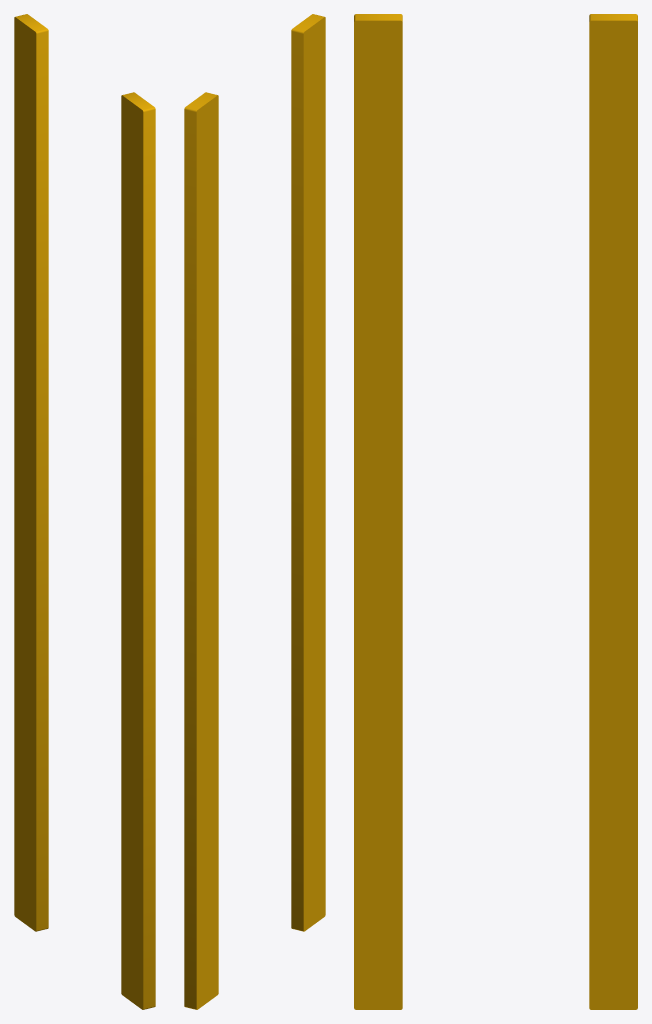
3 renders of one model, left to right at view 1: azimuth 30°, elevation 25°; view 2: azimuth 150°, elevation 25°; view 3: azimuth 270°, elevation 25°, orthographic. The views are drawn at different scales.
Visible parts, largest first — view 1: TransformZUpToYUp.002; view 2: TransformZUpToYUp.002; view 3: TransformZUpToYUp.002.
Boxes of the visible parts, <box> form: TransformZUpToYUp.002: <box>14,14,155,1009</box>; TransformZUpToYUp.002: <box>184,14,325,1009</box>; TransformZUpToYUp.002: <box>354,14,637,1009</box>.
Bounding box in the file's own units: 16 × 1123 × 292.
